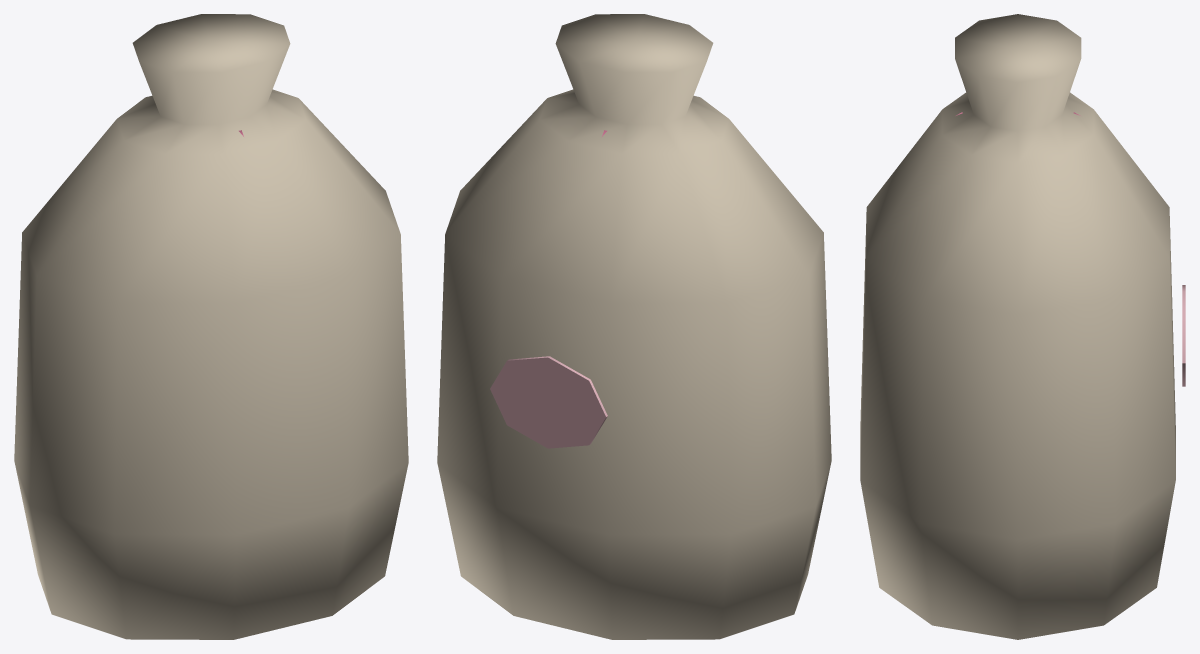
File: sack_flour.glb
The picture shows the model from 3 angles, left to right: view 1: azimuth 30°, elevation 25°; view 2: azimuth 150°, elevation 25°; view 3: azimuth 270°, elevation 25°; orthographic projection. The views are drawn at different scales.
Visible parts, largest first — view 1: sack_flour; view 2: sack_flour; view 3: sack_flour.
Part boxes in pixels (x1,y1,x2,y2): sack_flour: [14, 14, 408, 639]; sack_flour: [437, 14, 831, 639]; sack_flour: [860, 14, 1185, 639].
Size of what is drawn, in the model's own units: 0.5 by 0.7 by 0.4.
